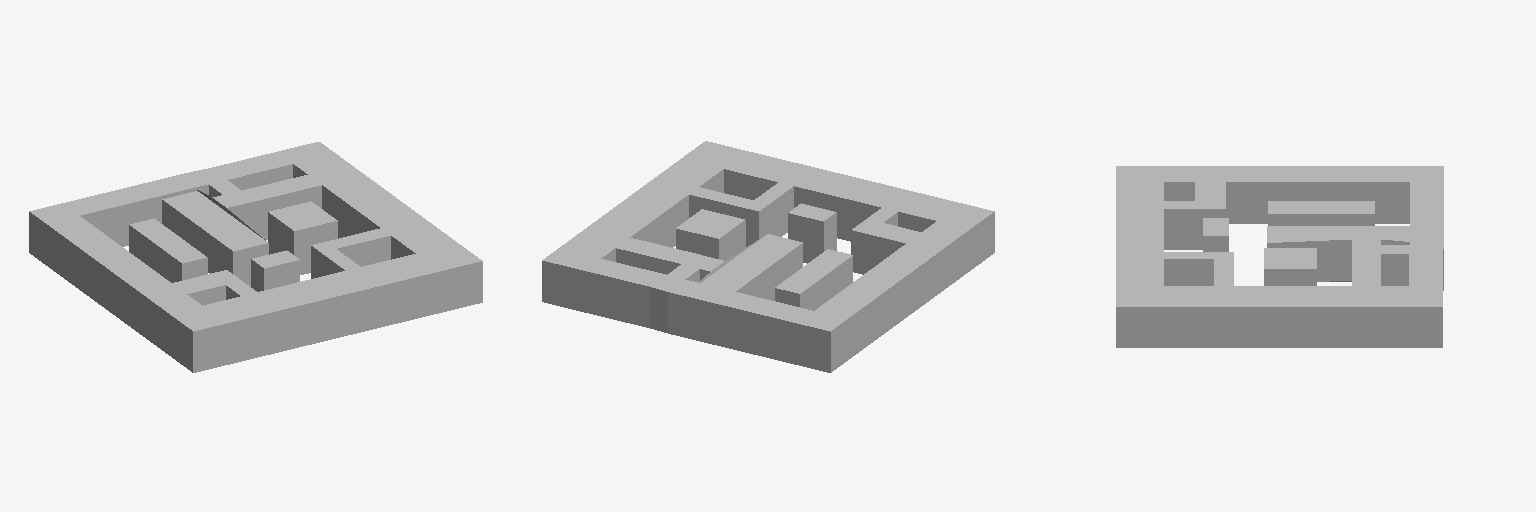
File: plains_track_bounds.obj
3 views of the same model, side by side, from view 1: azimuth 30°, elevation 25°; view 2: azimuth 150°, elevation 25°; view 3: azimuth 270°, elevation 25° (orthographic).
Size of the model in its own units: 19.52 by 2.99 by 19.2.